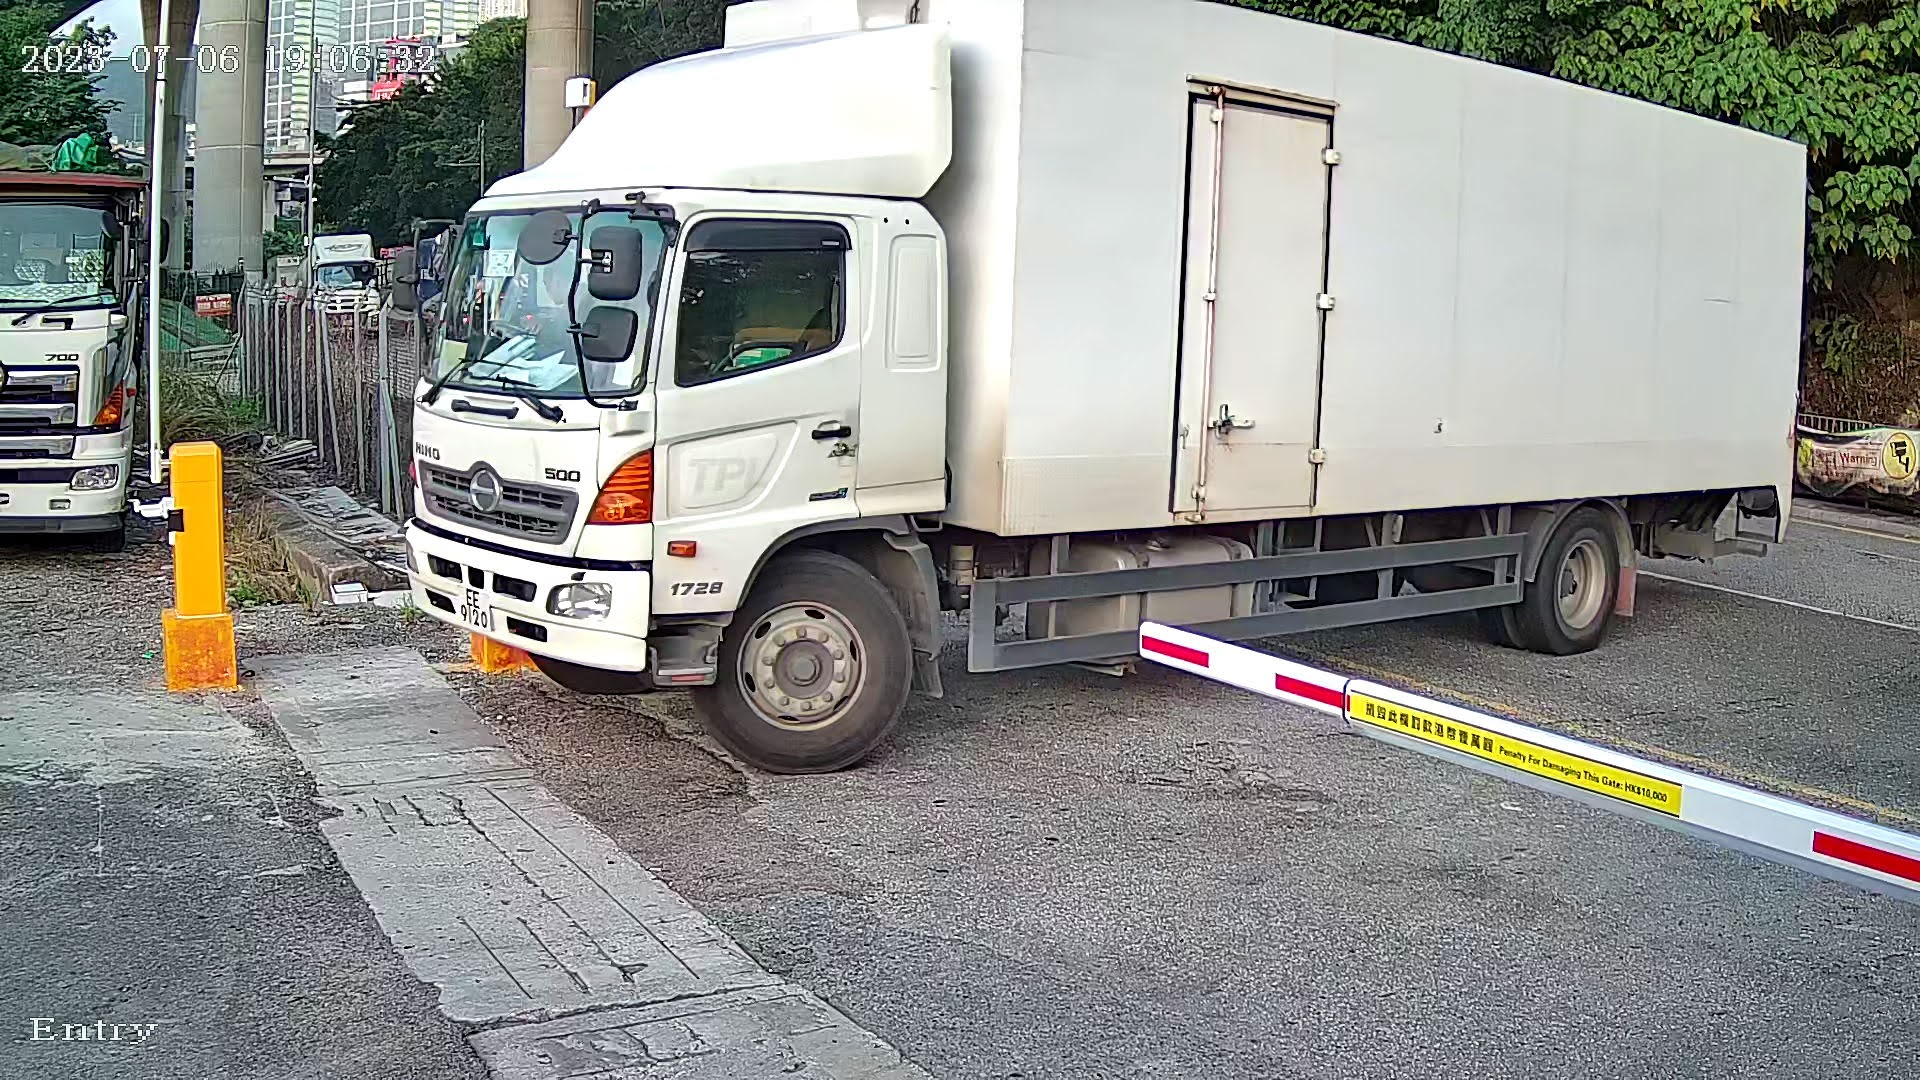truck_large: (361, 1, 1833, 783)
